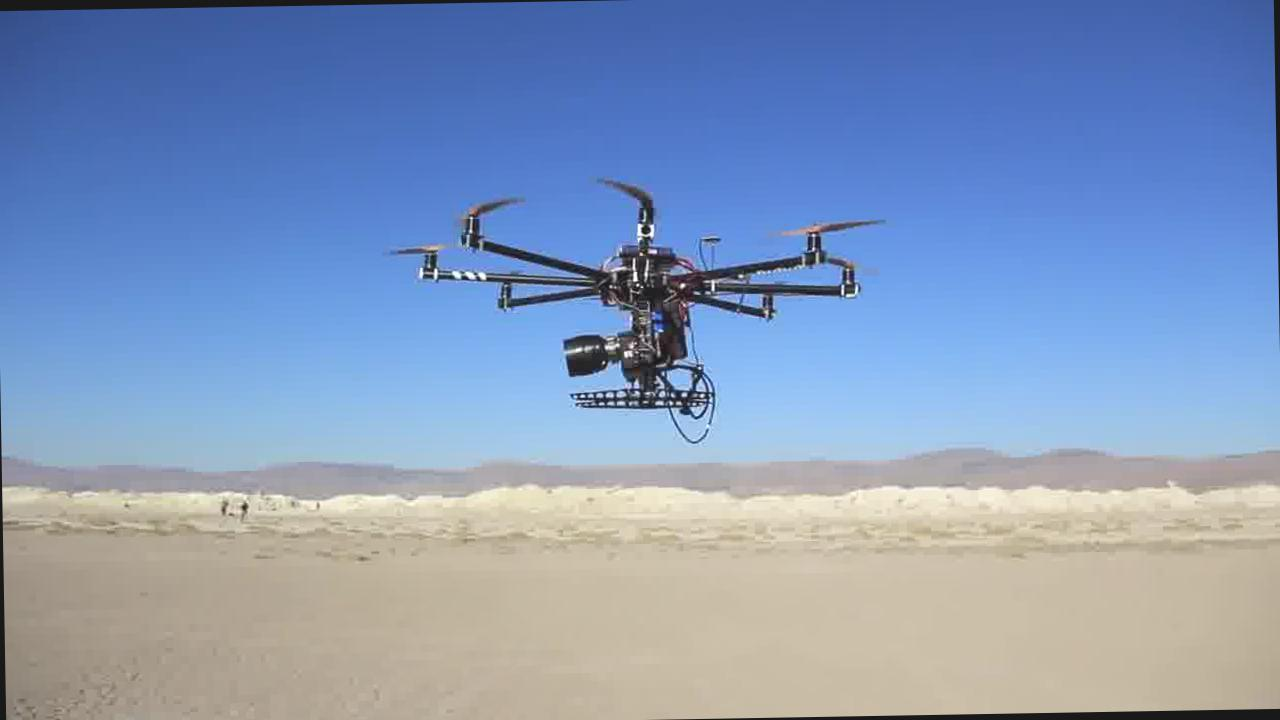drone: (393, 175, 887, 410)
